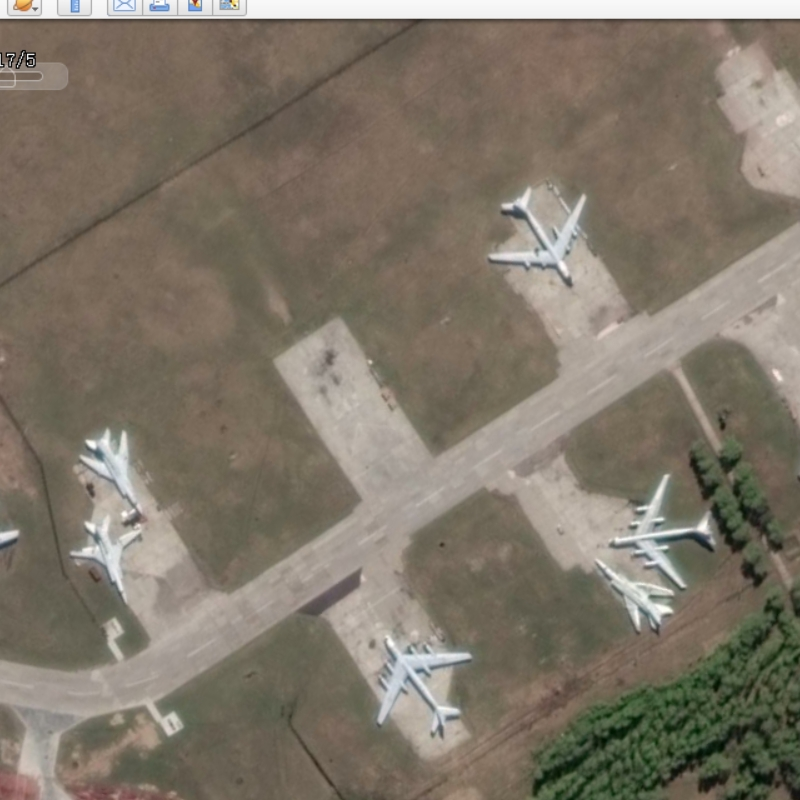A12: (67, 512, 144, 605), (593, 556, 677, 635), (77, 425, 146, 517)
A17: (605, 472, 719, 591), (374, 633, 475, 736), (485, 184, 589, 282)
